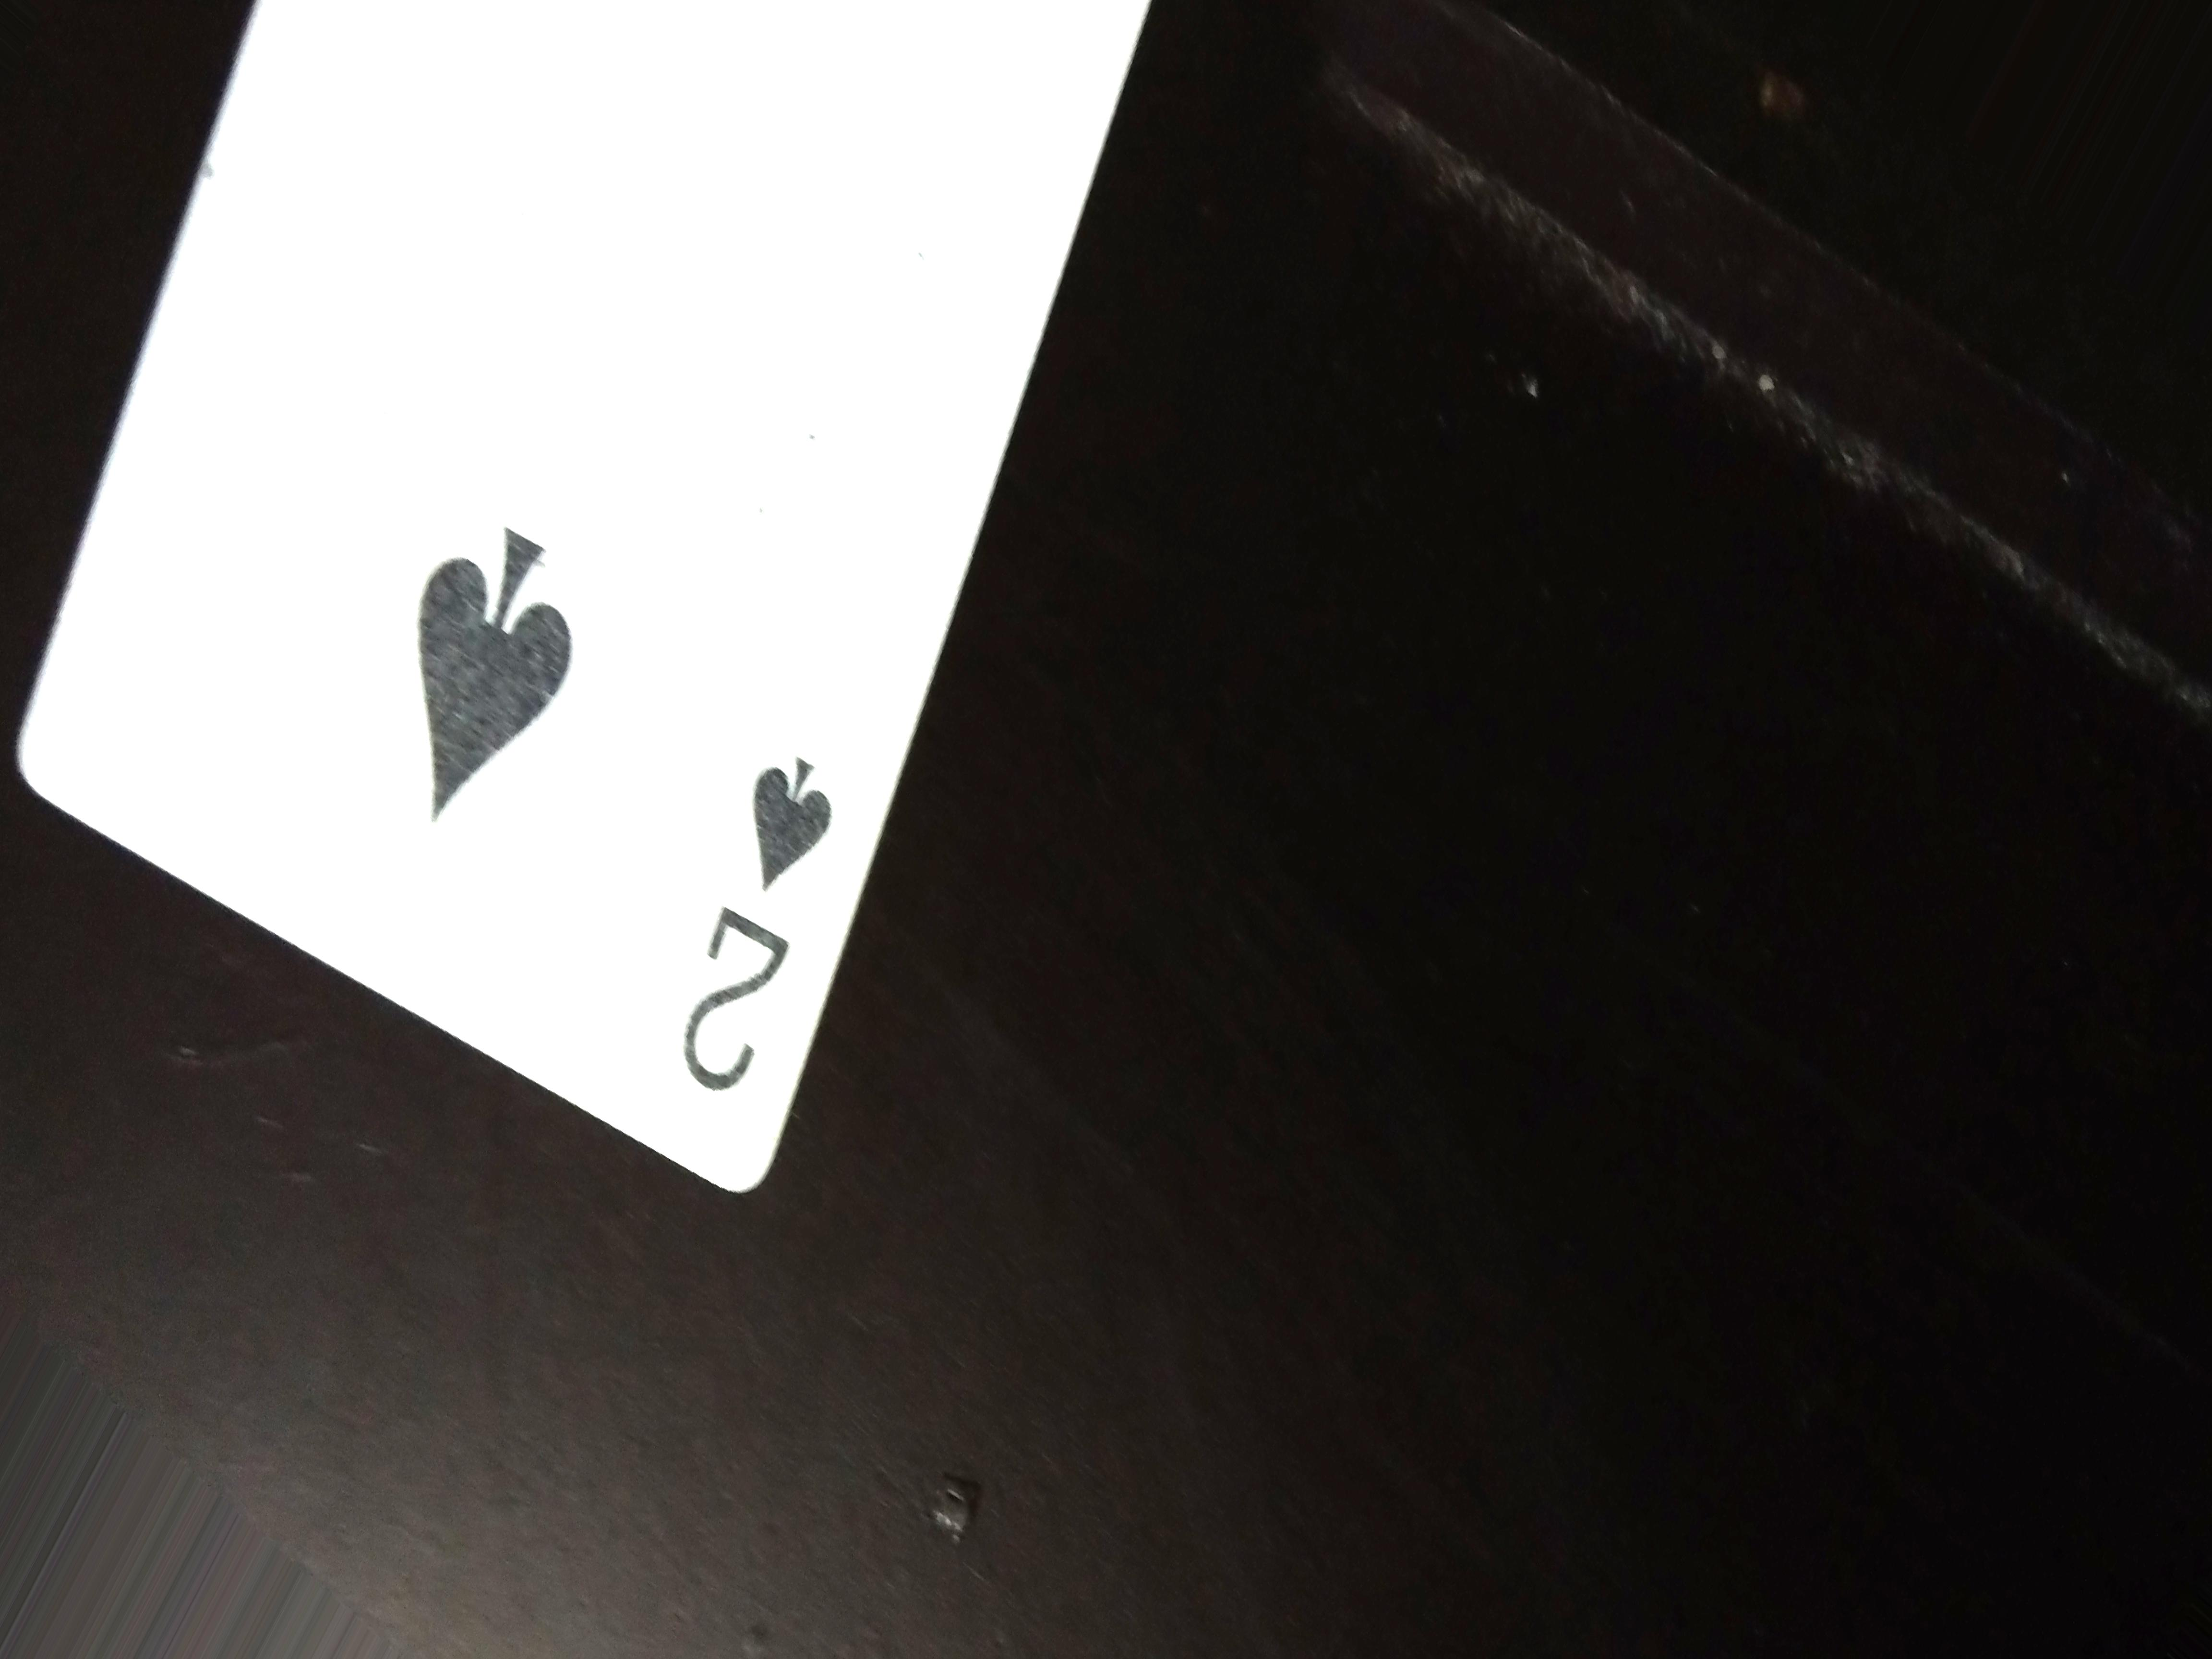2S: (667, 721, 820, 1105)
